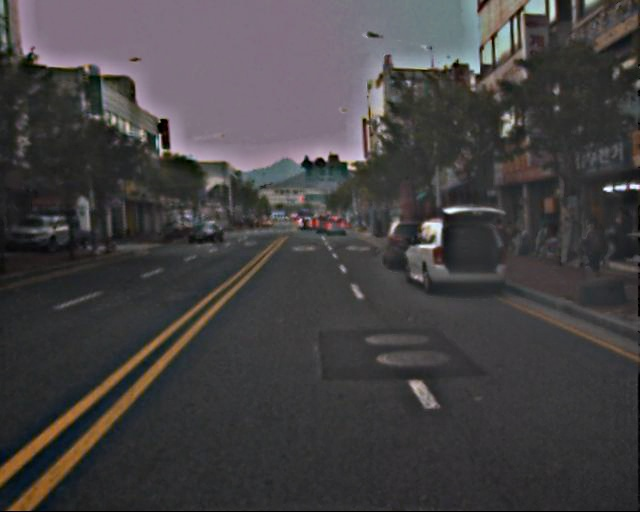person: (576, 218, 609, 289)
